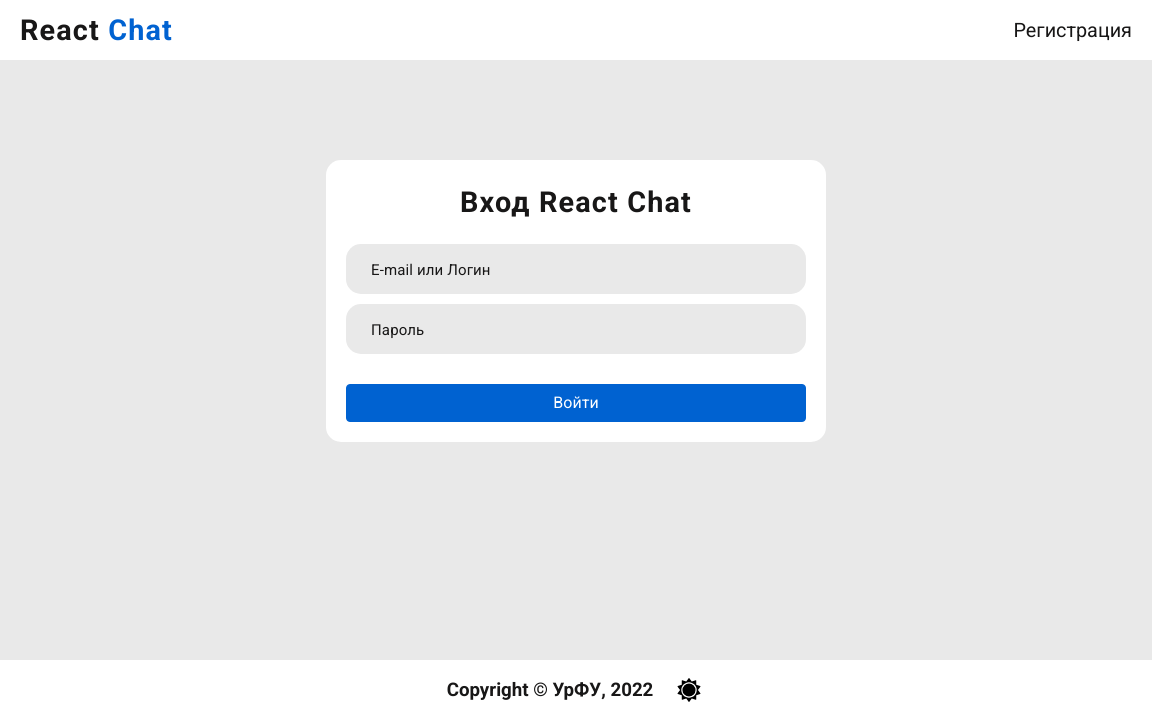
Test case: returns to the entire protected URL after a successful login
The width and height of the screenshot is (1152, 720).
Expected: the heading "Вход React Chat" is shown, [460,185,692,219]
Type "tester" into the field labelled "E-mail или Логин".
click(576, 269); type("tester")  # box [346,244,806,294]
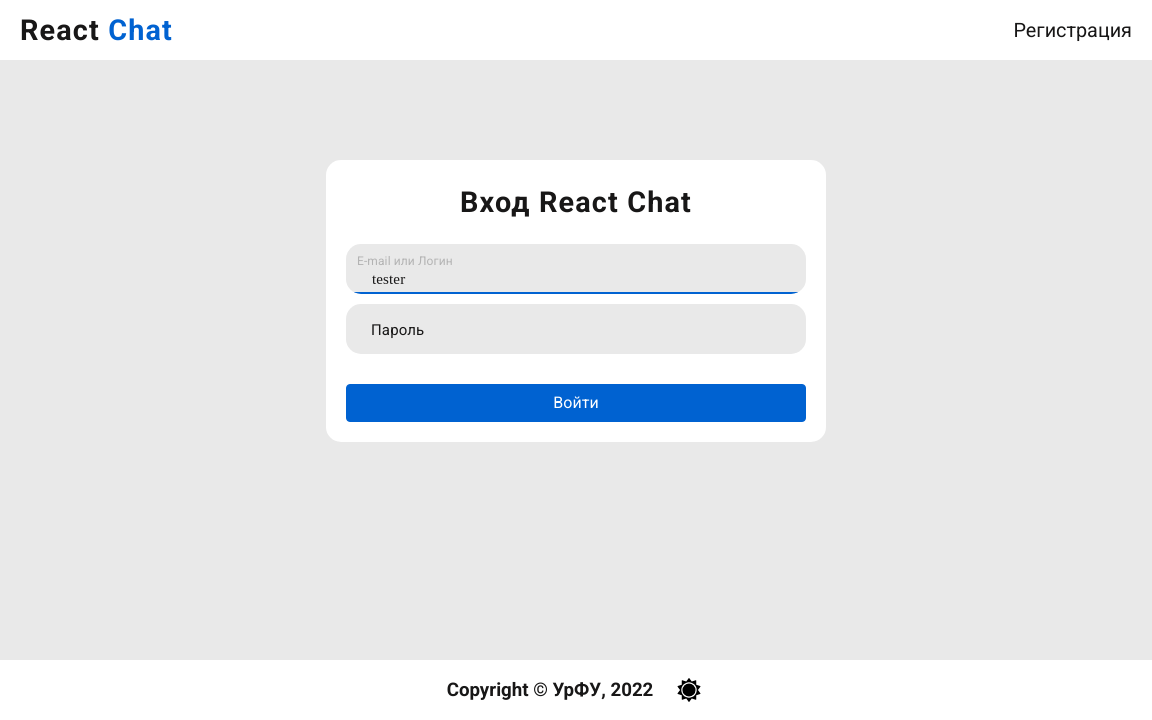
Type "secret" into the password field labelled "Пароль".
click(576, 329); type("secret")  # box [346,304,806,354]
Then press Enter
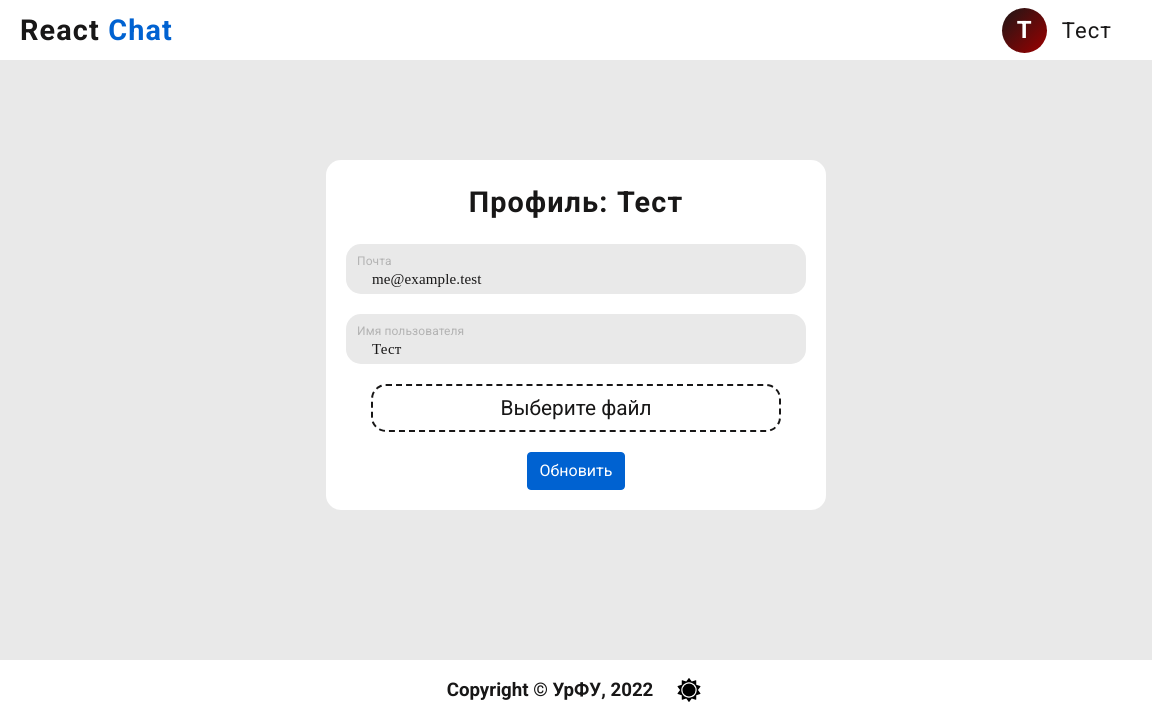
Result: the heading "Профиль: Тест" is shown at [469,180,683,224]
